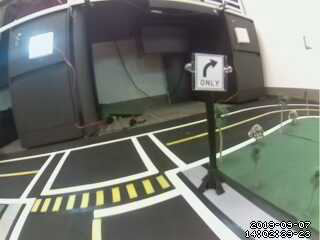Right_only_sign: (190, 50, 222, 92)
